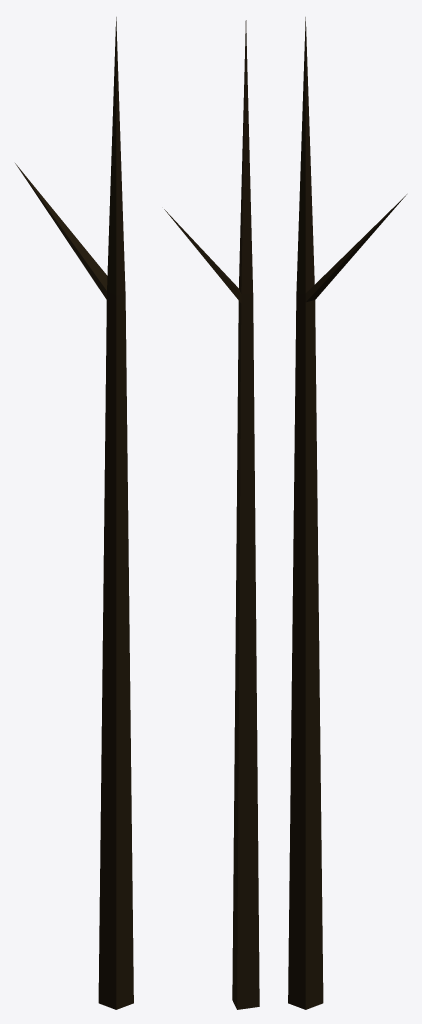
File: little_stick.fbx
3 views of the same model, side by side, from view 1: azimuth 90°, elevation 25°; view 2: azimuth 150°, elevation 25°; view 3: azimuth 270°, elevation 25° (orthographic).
Parts seen in each view (by area): view 1: little stick; view 2: little stick; view 3: little stick.
Boxes of the visible parts, x1=… form: little stick: x1=15, y1=17, x2=133, y2=1009; little stick: x1=164, y1=20, x2=259, y2=1009; little stick: x1=288, y1=17, x2=406, y2=1009.
Size of the model in its own units: 17.55 by 359 by 39.42.
